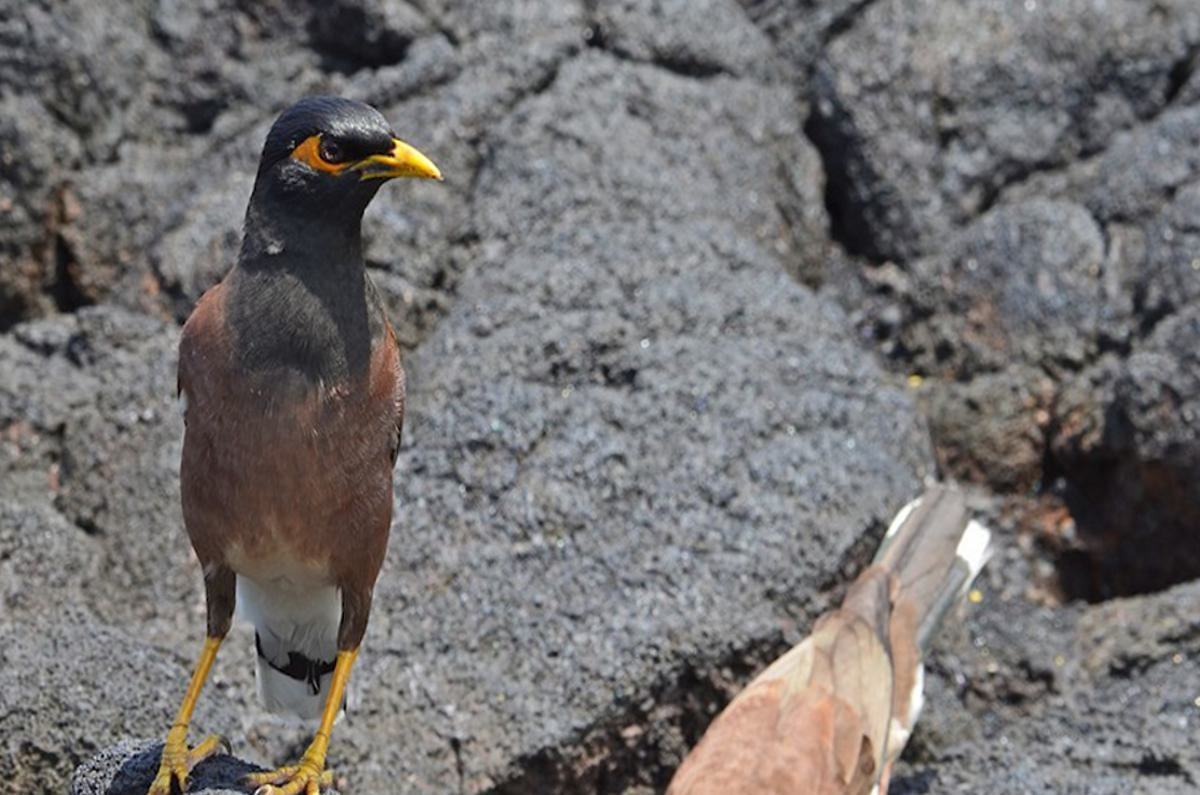myna: (101, 93, 495, 742)
